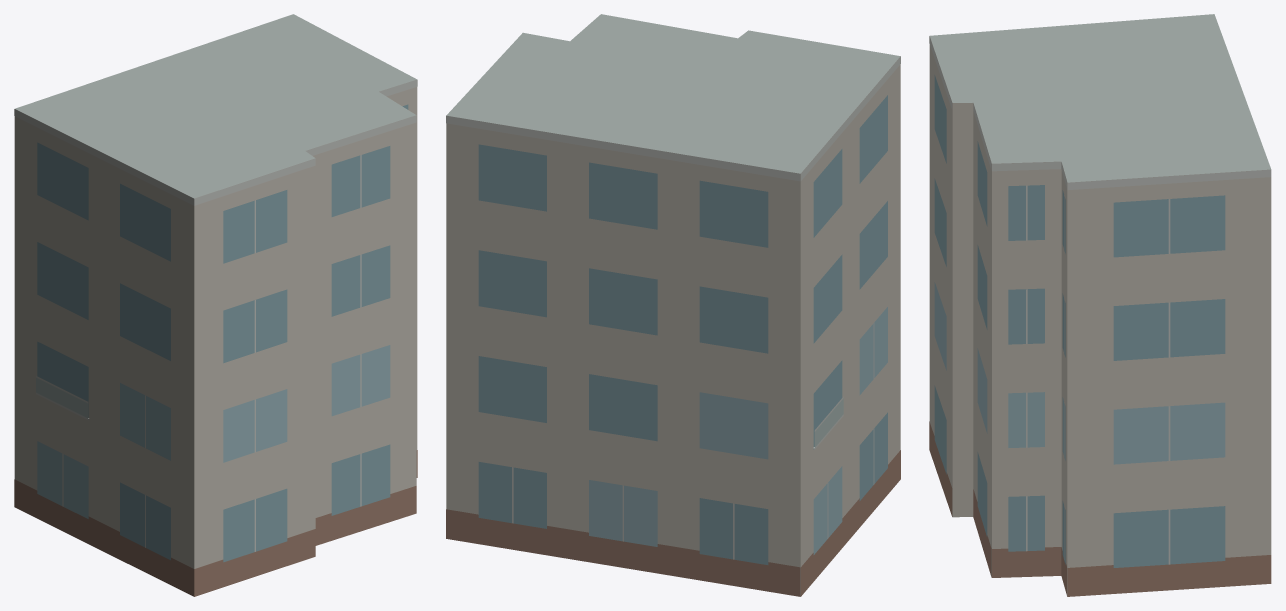
Rendered from survey-upis-32734493.glb.
The picture shows the model from 3 angles, left to right: view 1: azimuth 30°, elevation 25°; view 2: azimuth 150°, elevation 25°; view 3: azimuth 270°, elevation 25°; orthographic projection. The views are drawn at different scales.
Parts seen in each view (by area): view 1: survey-upis-32734493.tmp; view 2: survey-upis-32734493.tmp; view 3: survey-upis-32734493.tmp.
Boxes of the visible parts, x1=… form: survey-upis-32734493.tmp: x1=14, y1=14, x2=417, y2=596; survey-upis-32734493.tmp: x1=446, y1=14, x2=900, y2=596; survey-upis-32734493.tmp: x1=929, y1=14, x2=1271, y2=596.
Size of the model in its own units: 11.66 by 13.35 by 10.
